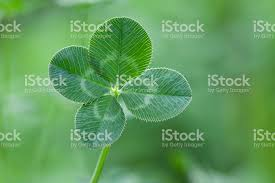4-clover: (48, 17, 192, 149)
